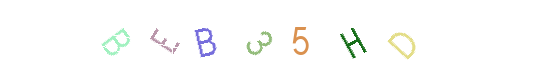3: (227, 0, 307, 80)
5: (260, 0, 340, 80)
B: (121, 0, 201, 80), (189, 0, 269, 80)
D: (347, 0, 427, 80)
E: (165, 0, 245, 80)
H: (314, 0, 394, 80)
